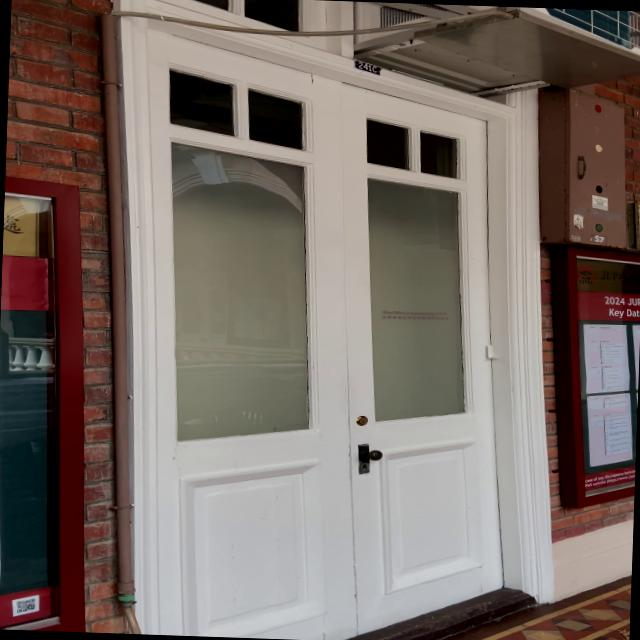room241c: (349, 59, 384, 74)
